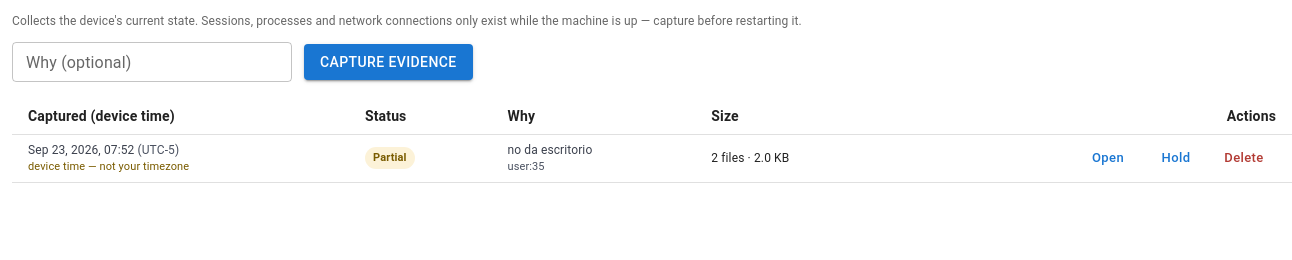
it: EvidenceTab — acciones › pedir una captura manda el motivo y refresca la lista
The image size is (1292, 260).
Expected: the button "Capture evidence" is shown, [304,44,473,80]
Type "se colgó el RDP" into the field labelled "Why (optional)" at (152, 62), box [12,42,292,82]
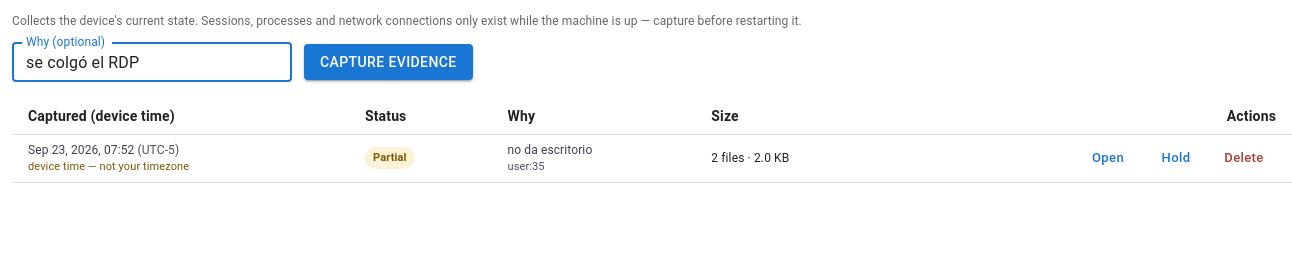
Click the button "Capture evidence" at (388, 62), box [304,44,473,80]
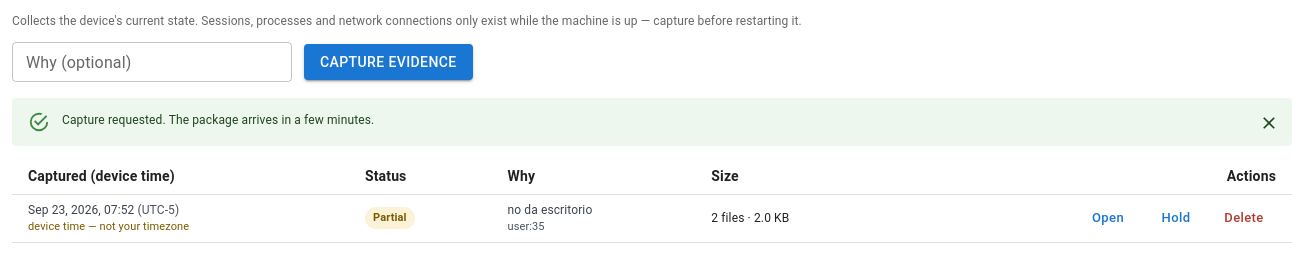
Now the text "Capture requested. The package arrives in a few minutes." is shown, box [62,113,374,127]
